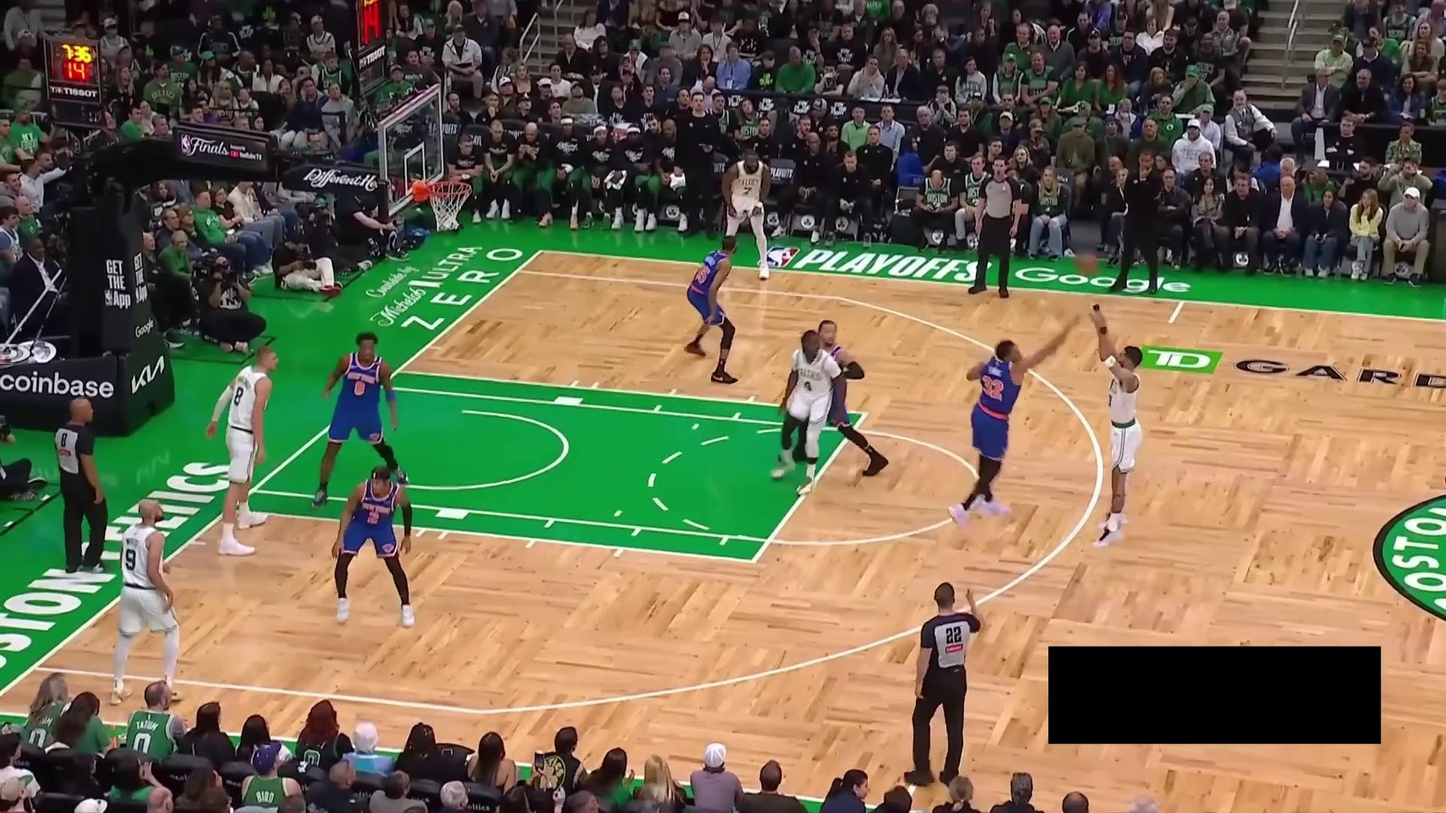ball: (1072, 250, 1100, 276)
number: (981, 375, 1003, 398), (694, 263, 711, 284), (125, 548, 137, 571), (233, 385, 245, 406), (366, 510, 380, 525), (354, 380, 366, 396), (803, 379, 813, 393), (742, 184, 753, 196)
player: (310, 330, 410, 510), (108, 498, 185, 706), (205, 343, 279, 556), (791, 319, 890, 478), (330, 464, 416, 629), (770, 329, 848, 497), (682, 233, 742, 385), (719, 147, 773, 281)
player-jump-shot: (1090, 303, 1145, 550)
player-shot-block: (947, 313, 1080, 536)
referee: (901, 582, 983, 788), (53, 396, 110, 574), (967, 155, 1023, 300)
rim: (427, 180, 472, 196)
